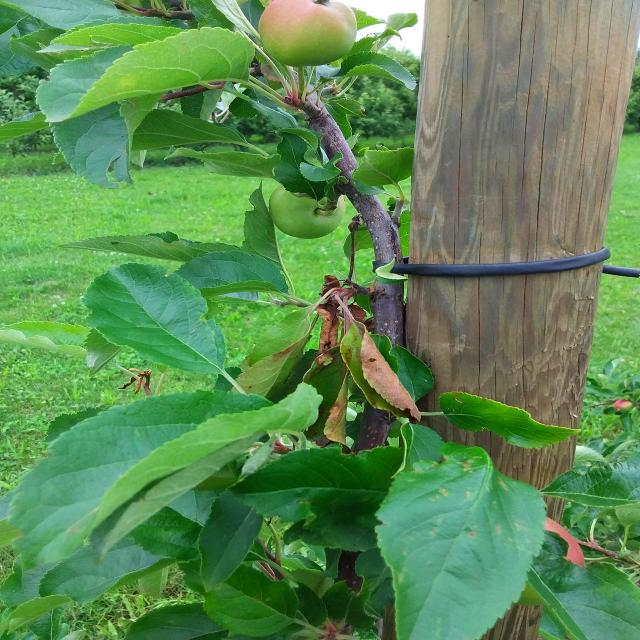-FireBlight-: (310, 266, 424, 423)
